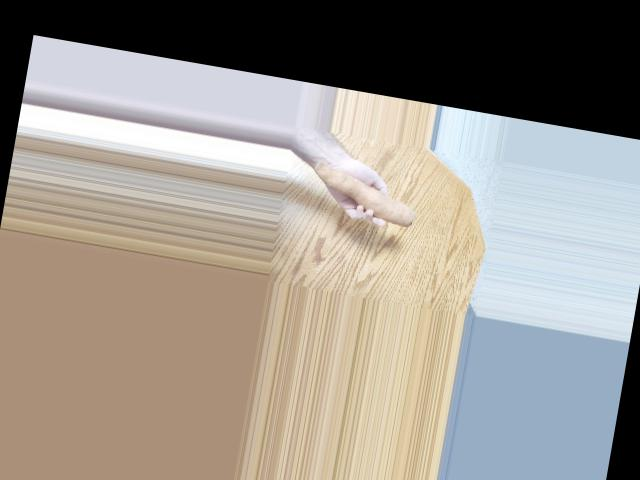sweet_potato: (309, 161, 422, 230)
